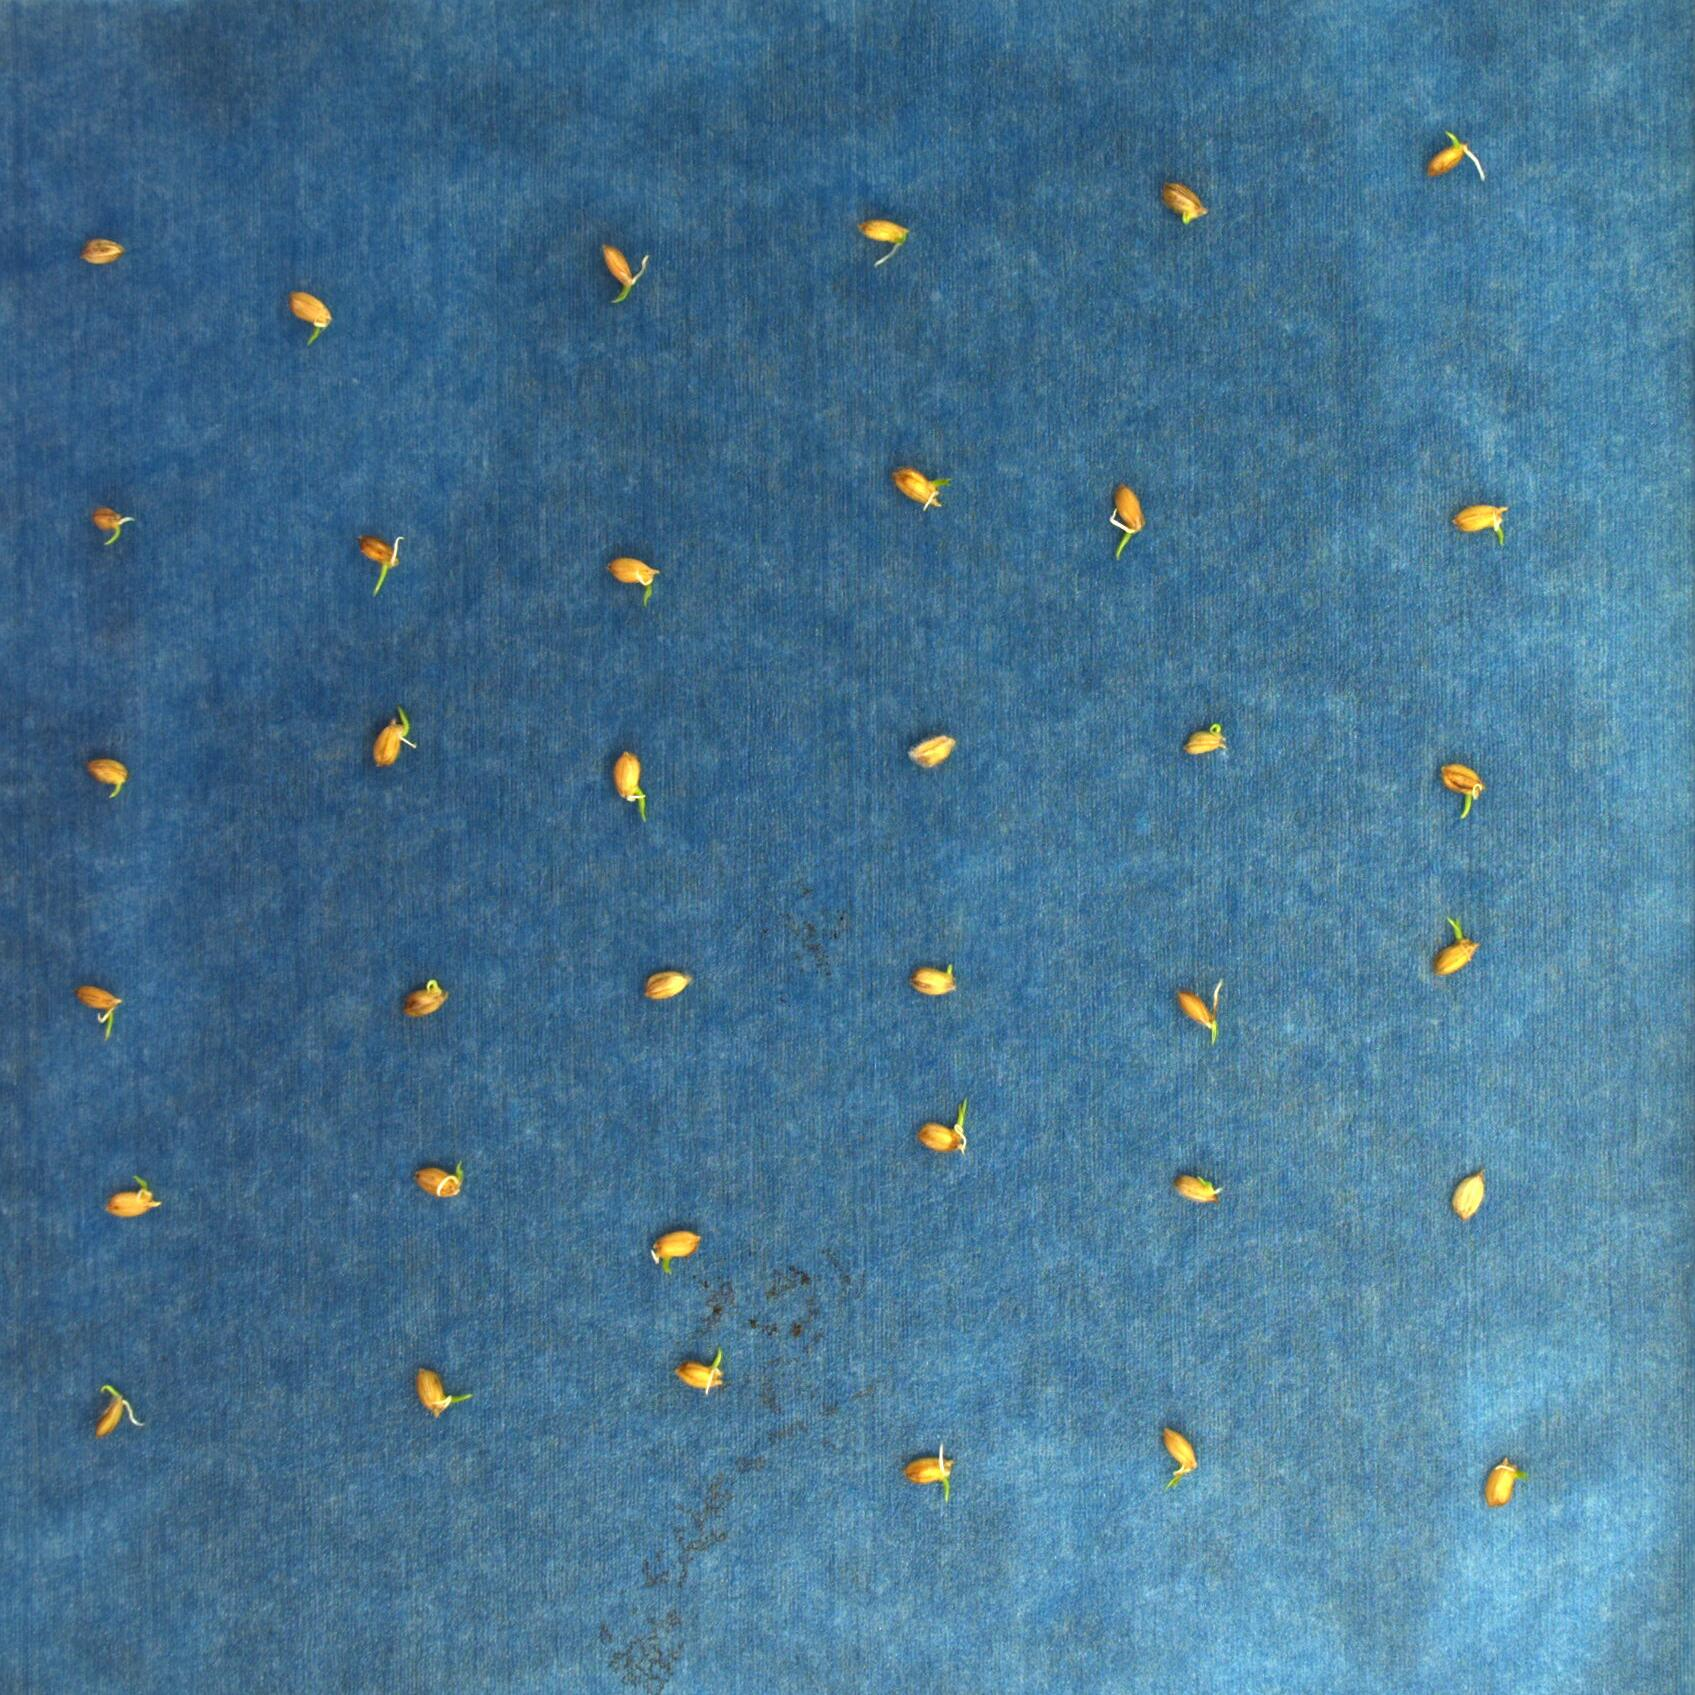not sprout: (1173, 976, 1225, 1048), (1423, 129, 1487, 180), (857, 217, 910, 267), (1156, 179, 1208, 225), (1161, 1423, 1201, 1479), (1482, 1454, 1520, 1510), (411, 1161, 464, 1200), (1450, 1169, 1489, 1222), (905, 733, 958, 768), (400, 979, 449, 1018), (1181, 723, 1228, 761), (908, 965, 959, 997), (1173, 1172, 1222, 1205), (643, 972, 691, 1003), (81, 236, 123, 267)
sprout: (916, 1097, 972, 1156), (905, 1440, 958, 1503), (599, 244, 650, 304), (416, 1367, 475, 1419), (1108, 483, 1146, 563), (93, 1385, 147, 1439), (357, 532, 404, 594), (891, 464, 953, 511), (76, 983, 124, 1042), (1433, 916, 1479, 976), (369, 706, 414, 768), (1450, 501, 1509, 548), (607, 556, 660, 607), (1437, 761, 1485, 816), (289, 289, 332, 349), (612, 751, 647, 824), (649, 1229, 703, 1276), (672, 1347, 723, 1392), (106, 1175, 160, 1217), (82, 756, 127, 801), (92, 508, 137, 545)
